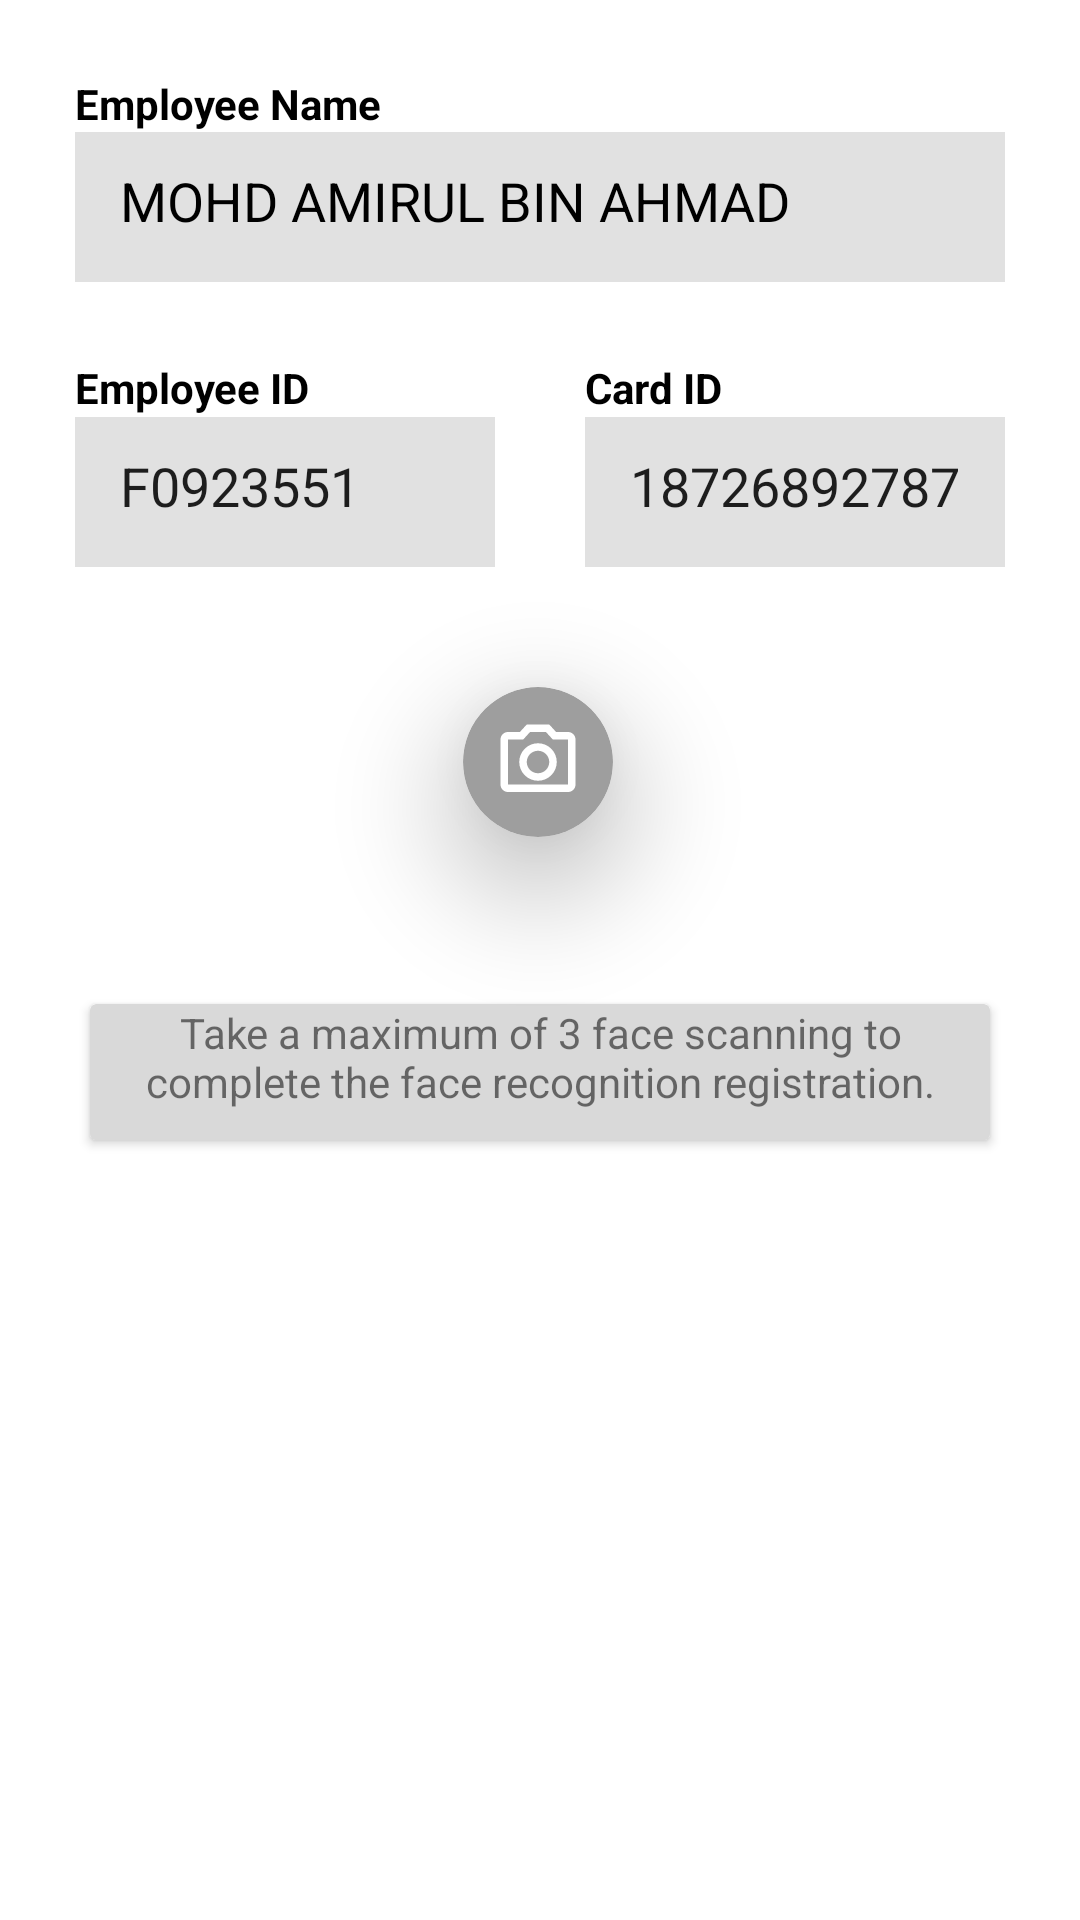

Where icons sit on this 1080px×1920px app screen, as (x1, y1, x2, y2):
camera: (463, 687, 613, 837)
